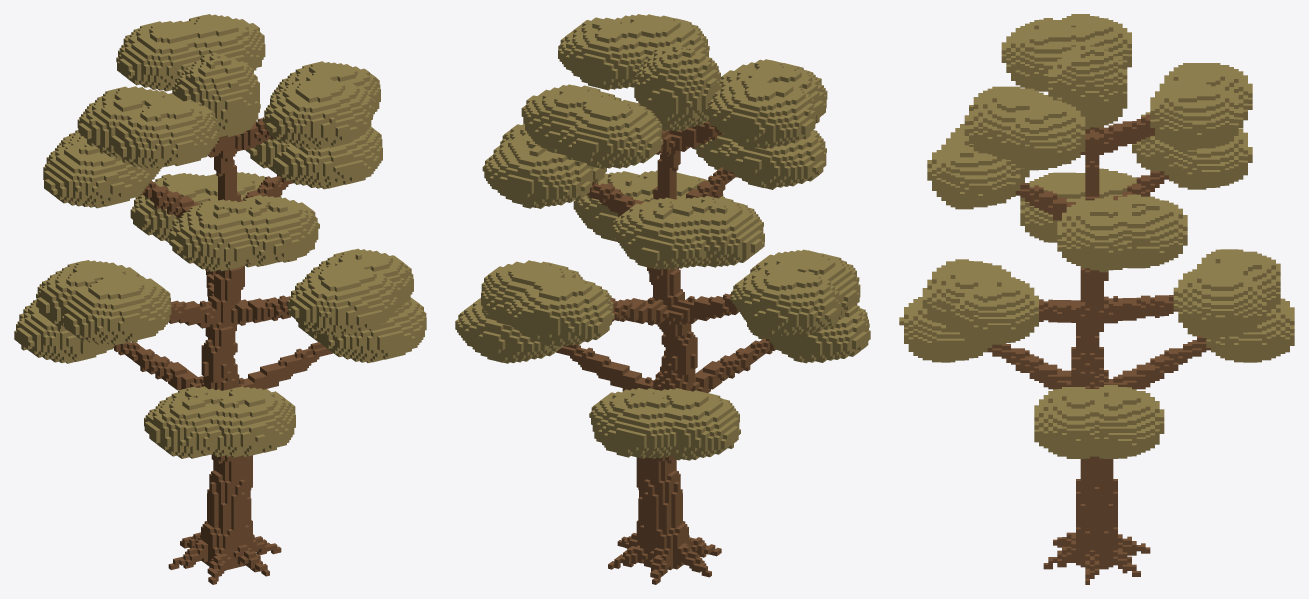
3 views of the same model, side by side, from view 1: azimuth 30°, elevation 25°; view 2: azimuth 150°, elevation 25°; view 3: azimuth 270°, elevation 25° (orthographic).
Visible parts, largest first — view 1: 既有乔木色阶与高度族; view 2: 既有乔木色阶与高度族; view 3: 既有乔木色阶与高度族.
Part boxes in pixels (box(x1,y1,x2,y2)): 既有乔木色阶与高度族: box(14, 14, 426, 584); 既有乔木色阶与高度族: box(455, 14, 870, 584); 既有乔木色阶与高度族: box(899, 14, 1294, 584).
Size of the model in its own units: 18 by 24 by 17.
3 materials, 3 textured.
